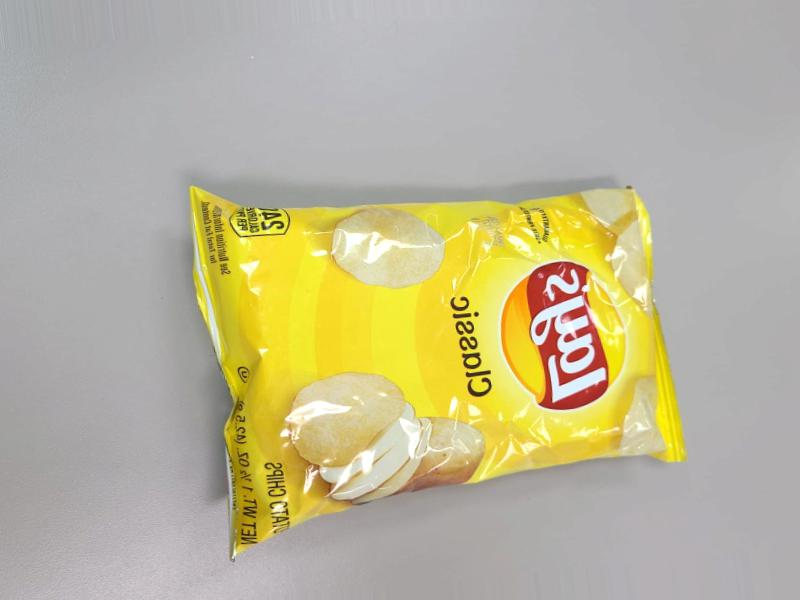lays: (228, 195, 728, 520)
